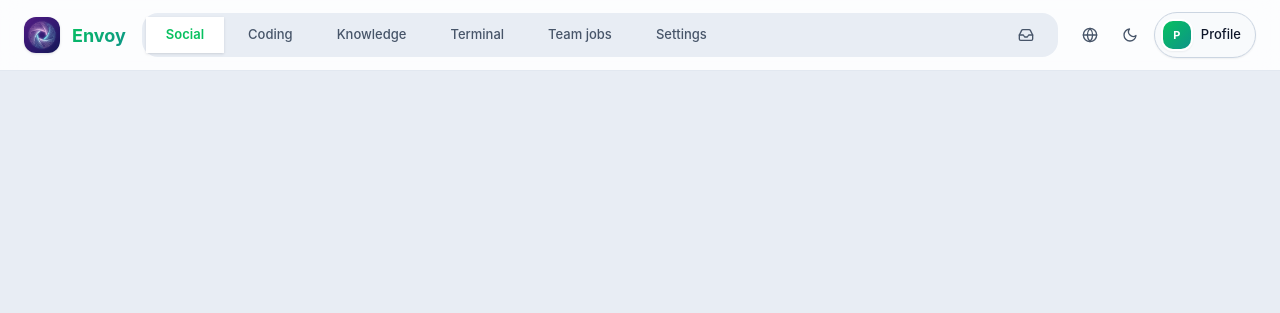
it: Header › opens language menu and lists locale options
The width and height of the screenshot is (1280, 313).
Click the button named "language:": (1090, 35) [1074,19,1106,51]
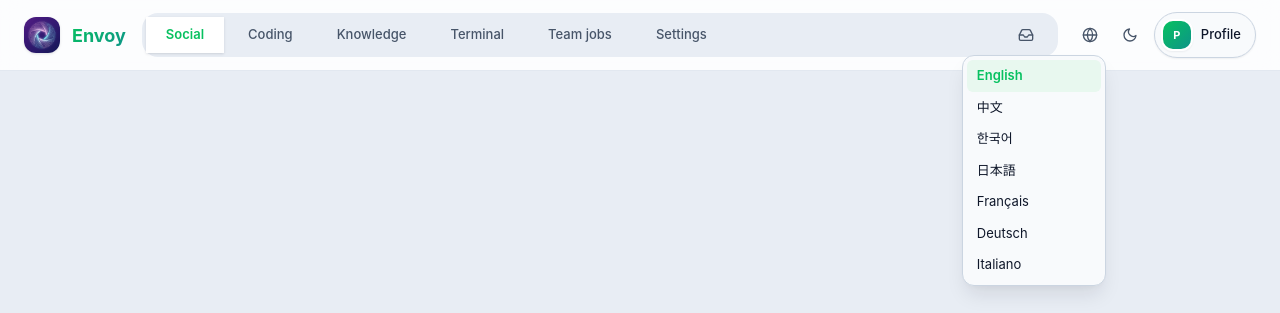
Result: the list named "choose language" is shown at [962,55,1106,286]
Result: the option "English" is shown at [967,60,1101,92]
Result: the option "中文" is shown at [967,92,1101,123]
